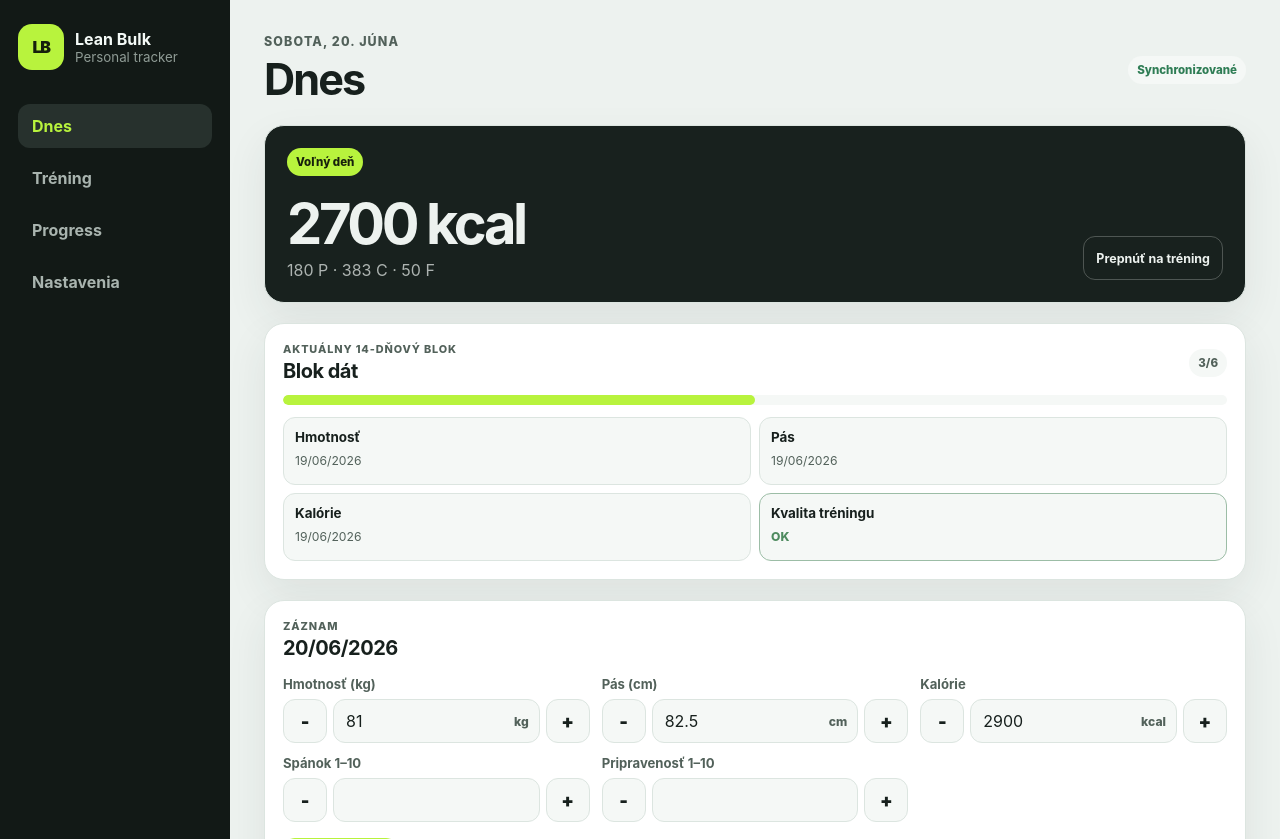
App demo mode › shows progress KPIs and selected chart point details
This screenshot has width=1280, height=839.
Click the button "Progress" at (115, 230), box top-left (18, 208), bottom-right (212, 252)
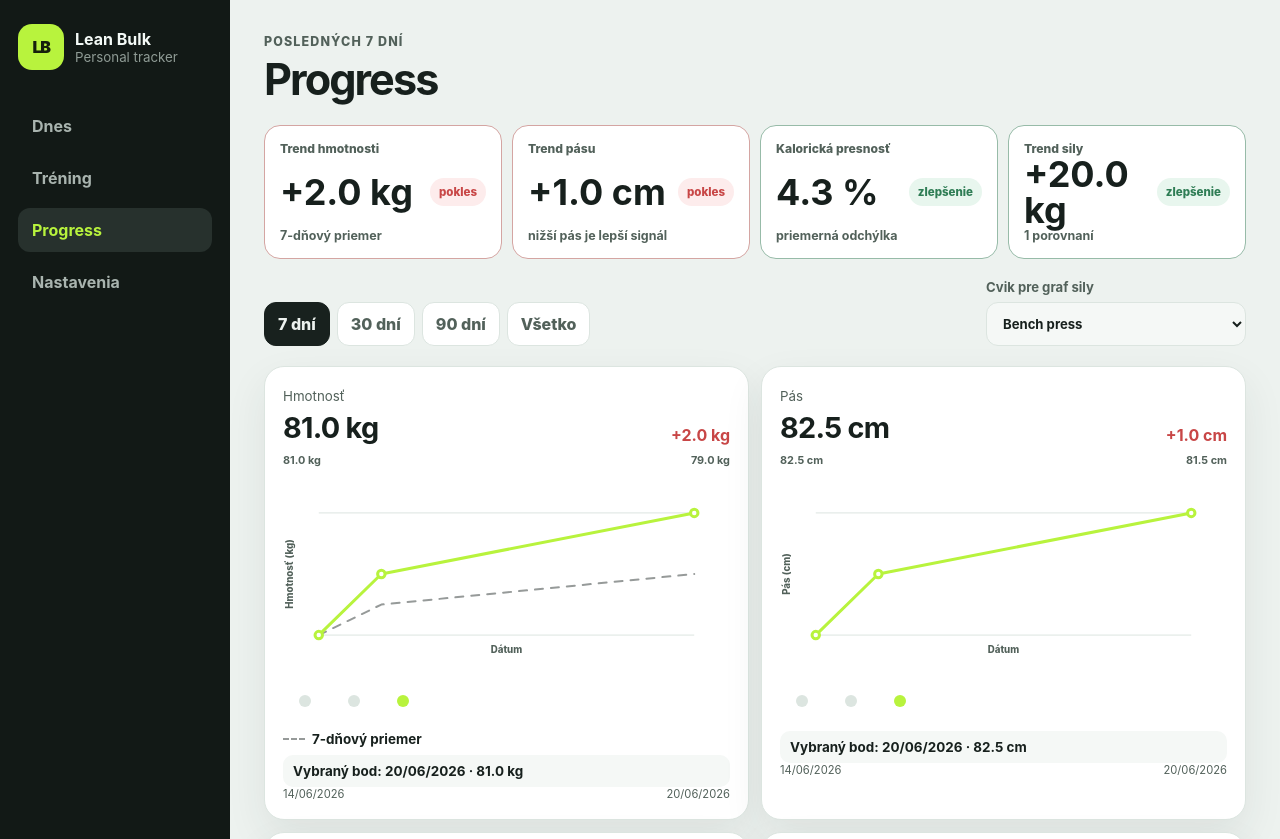
Now the text "Trend hmotnosti" is shown, box top-left (280, 141), bottom-right (379, 156)
Now the text "7-dňový priemer" is shown, box top-left (280, 228), bottom-right (382, 243)
Click the button named "Hmotnosť bod" at (305, 701), box top-left (283, 679), bottom-right (327, 723)
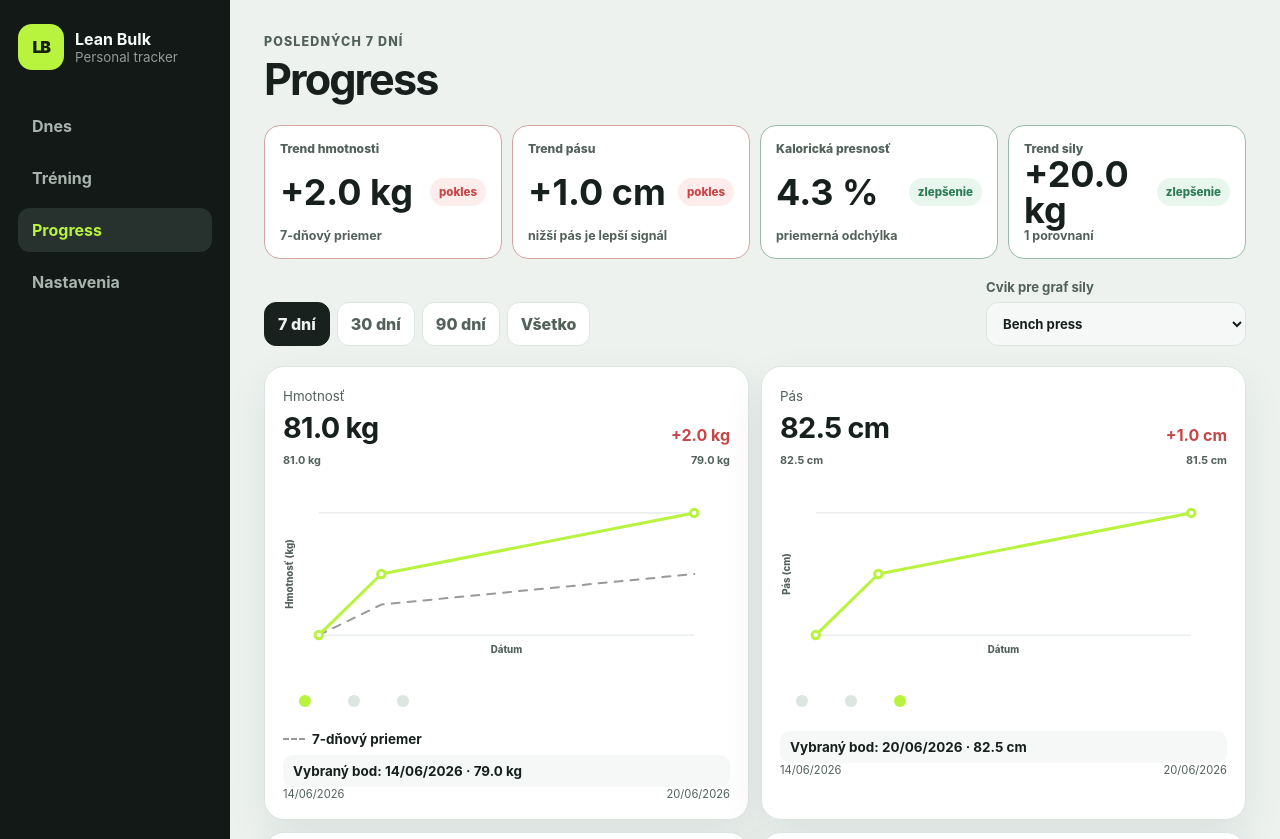
Now the text "Vybraný bod: 14/06/2026 · 79.0 kg" is shown, box top-left (283, 755), bottom-right (730, 787)
Now the 1st text "14/06/2026" is shown, box top-left (385, 763), bottom-right (463, 779)
